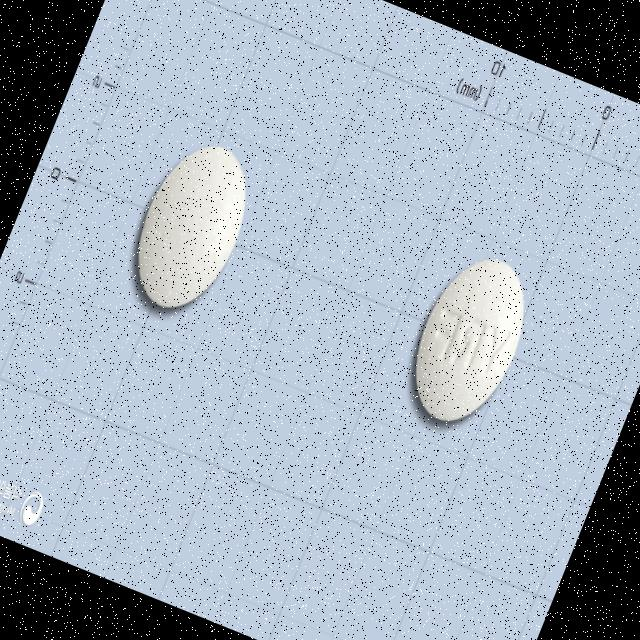Leprosin: (392, 243, 544, 439), (115, 130, 266, 323)
